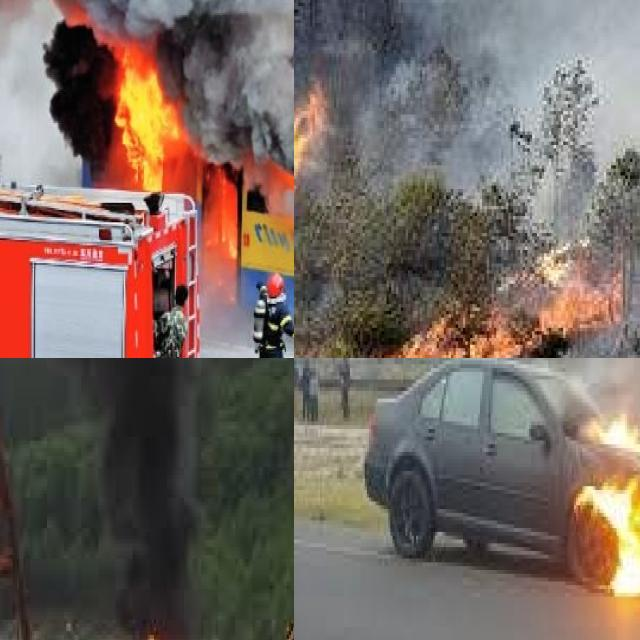fire: (322, 239, 623, 358), (567, 398, 640, 623), (105, 34, 175, 188), (294, 80, 317, 216)
smoke: (0, 0, 294, 175), (355, 0, 639, 175), (34, 358, 196, 640)
